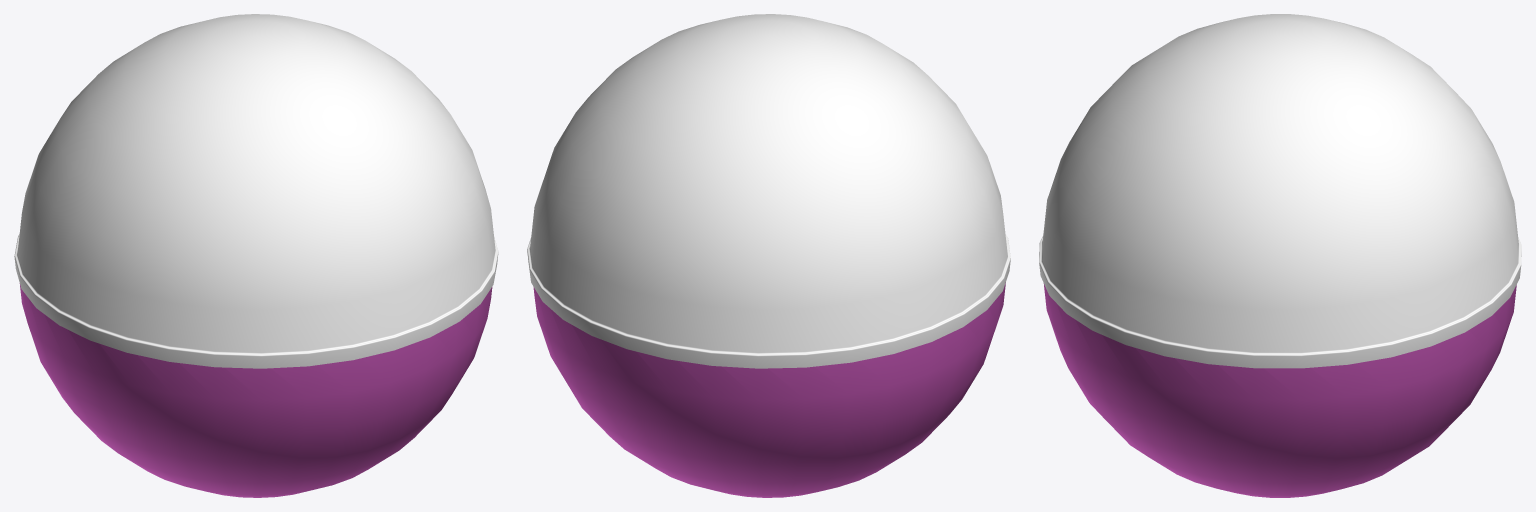
Rendered from Cinnamon_ball.glb.
3 views of the same model, side by side, from view 1: azimuth 30°, elevation 25°; view 2: azimuth 150°, elevation 25°; view 3: azimuth 270°, elevation 25° (orthographic).
Visible parts, largest first — view 1: Sphere010, Sphere011; view 2: Sphere010, Sphere011; view 3: Sphere010, Sphere011.
Boxes of the visible parts, x1,y1,x2,y2 form: Sphere010: [14, 14, 498, 368]; Sphere011: [19, 283, 492, 497]; Sphere010: [527, 14, 1010, 368]; Sphere011: [533, 282, 1005, 497]; Sphere010: [1039, 14, 1521, 368]; Sphere011: [1043, 283, 1516, 497].
Size of the model in its own units: 0.0807 by 0.0811 by 0.0807.
